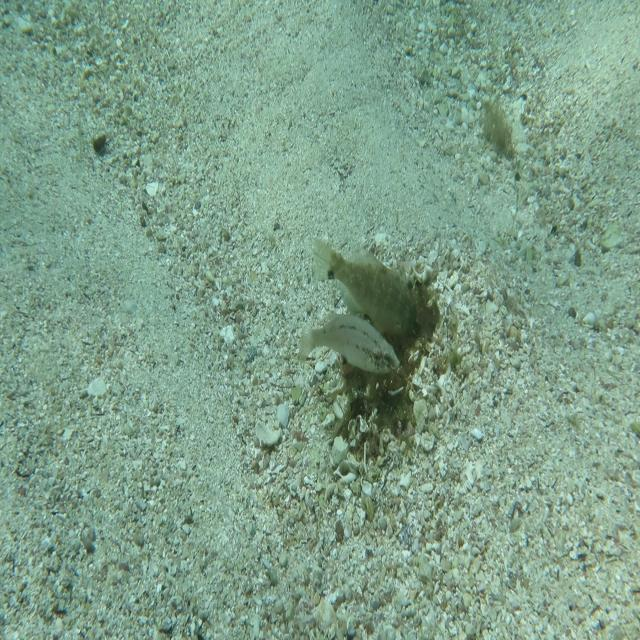NIP_CORE: (310, 228, 422, 343)
female: (297, 300, 401, 376)
nest: (327, 248, 468, 479)
